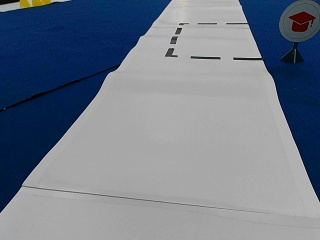school: (279, 1, 318, 41)
